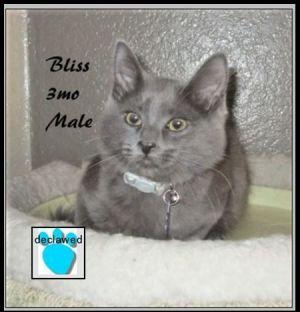rblue: (94, 40, 245, 195)
